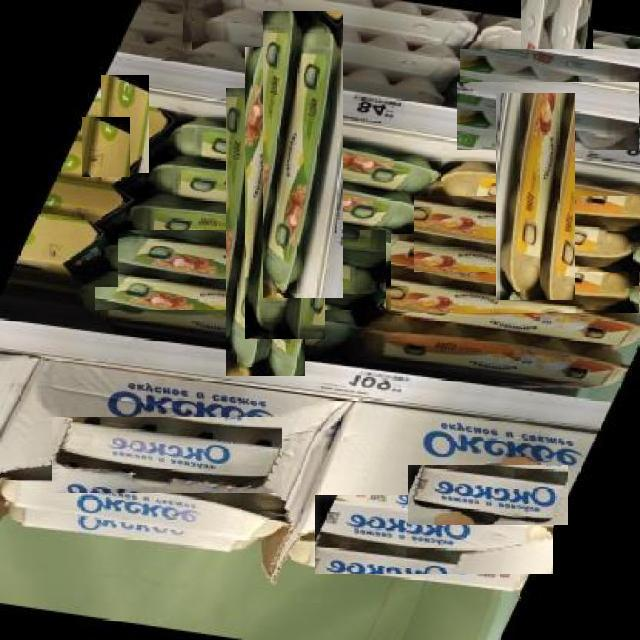Egg: (1, 452, 294, 547), (348, 309, 638, 396), (70, 268, 361, 354), (94, 229, 386, 310), (245, 47, 325, 339), (262, 11, 343, 298), (226, 88, 305, 376), (371, 269, 639, 350), (391, 233, 639, 313), (314, 494, 553, 574), (51, 416, 282, 493), (413, 195, 640, 272), (278, 530, 533, 597), (496, 93, 575, 300), (459, 48, 640, 128), (457, 81, 639, 150), (520, 0, 593, 135), (407, 464, 568, 525), (10, 215, 118, 287), (100, 76, 149, 173), (81, 117, 130, 214), (39, 177, 136, 226), (182, 0, 192, 51)
